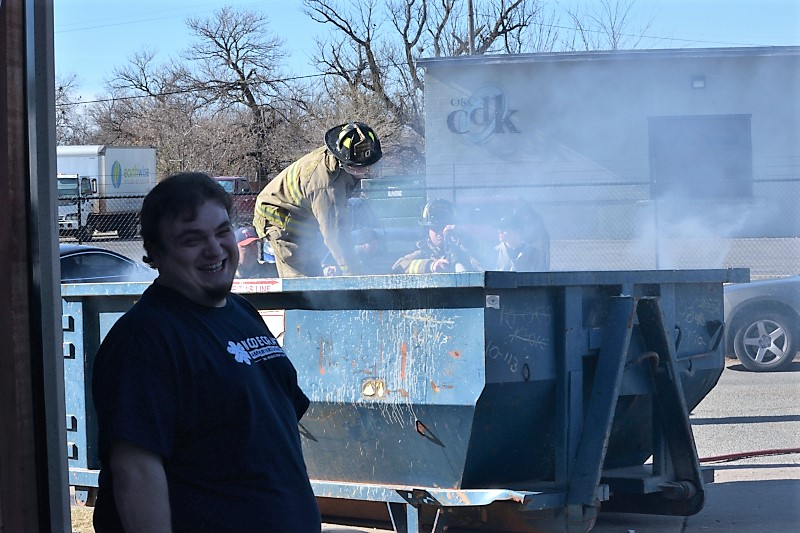Dumpster: (55, 265, 756, 532)
Person: (94, 170, 322, 533), (252, 118, 388, 279), (392, 198, 486, 273), (487, 208, 547, 276)
